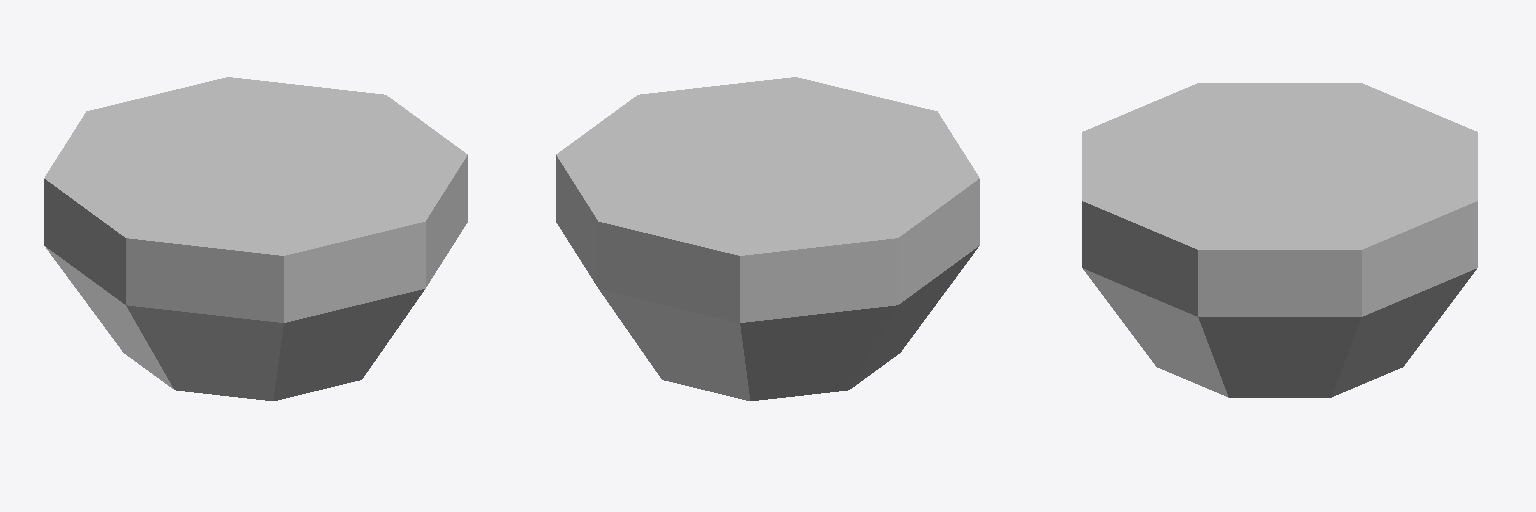
The model's file is marisa_hakkeiro.obj.
The picture shows the model from 3 angles: view 1: azimuth 30°, elevation 25°; view 2: azimuth 150°, elevation 25°; view 3: azimuth 270°, elevation 25°; orthographic projection.
Parts seen in each view (by area): view 1: cylinder, bottom; view 2: cylinder, bottom; view 3: cylinder, bottom.
Boxes of the visible parts, x1,y1,x2,y2 form: cylinder: [44, 77, 467, 322]; bottom: [45, 246, 424, 400]; cylinder: [556, 77, 979, 322]; bottom: [599, 246, 978, 400]; cylinder: [1082, 83, 1477, 316]; bottom: [1083, 269, 1476, 397].
Size of the model in its own units: 1 by 0.5 by 1.